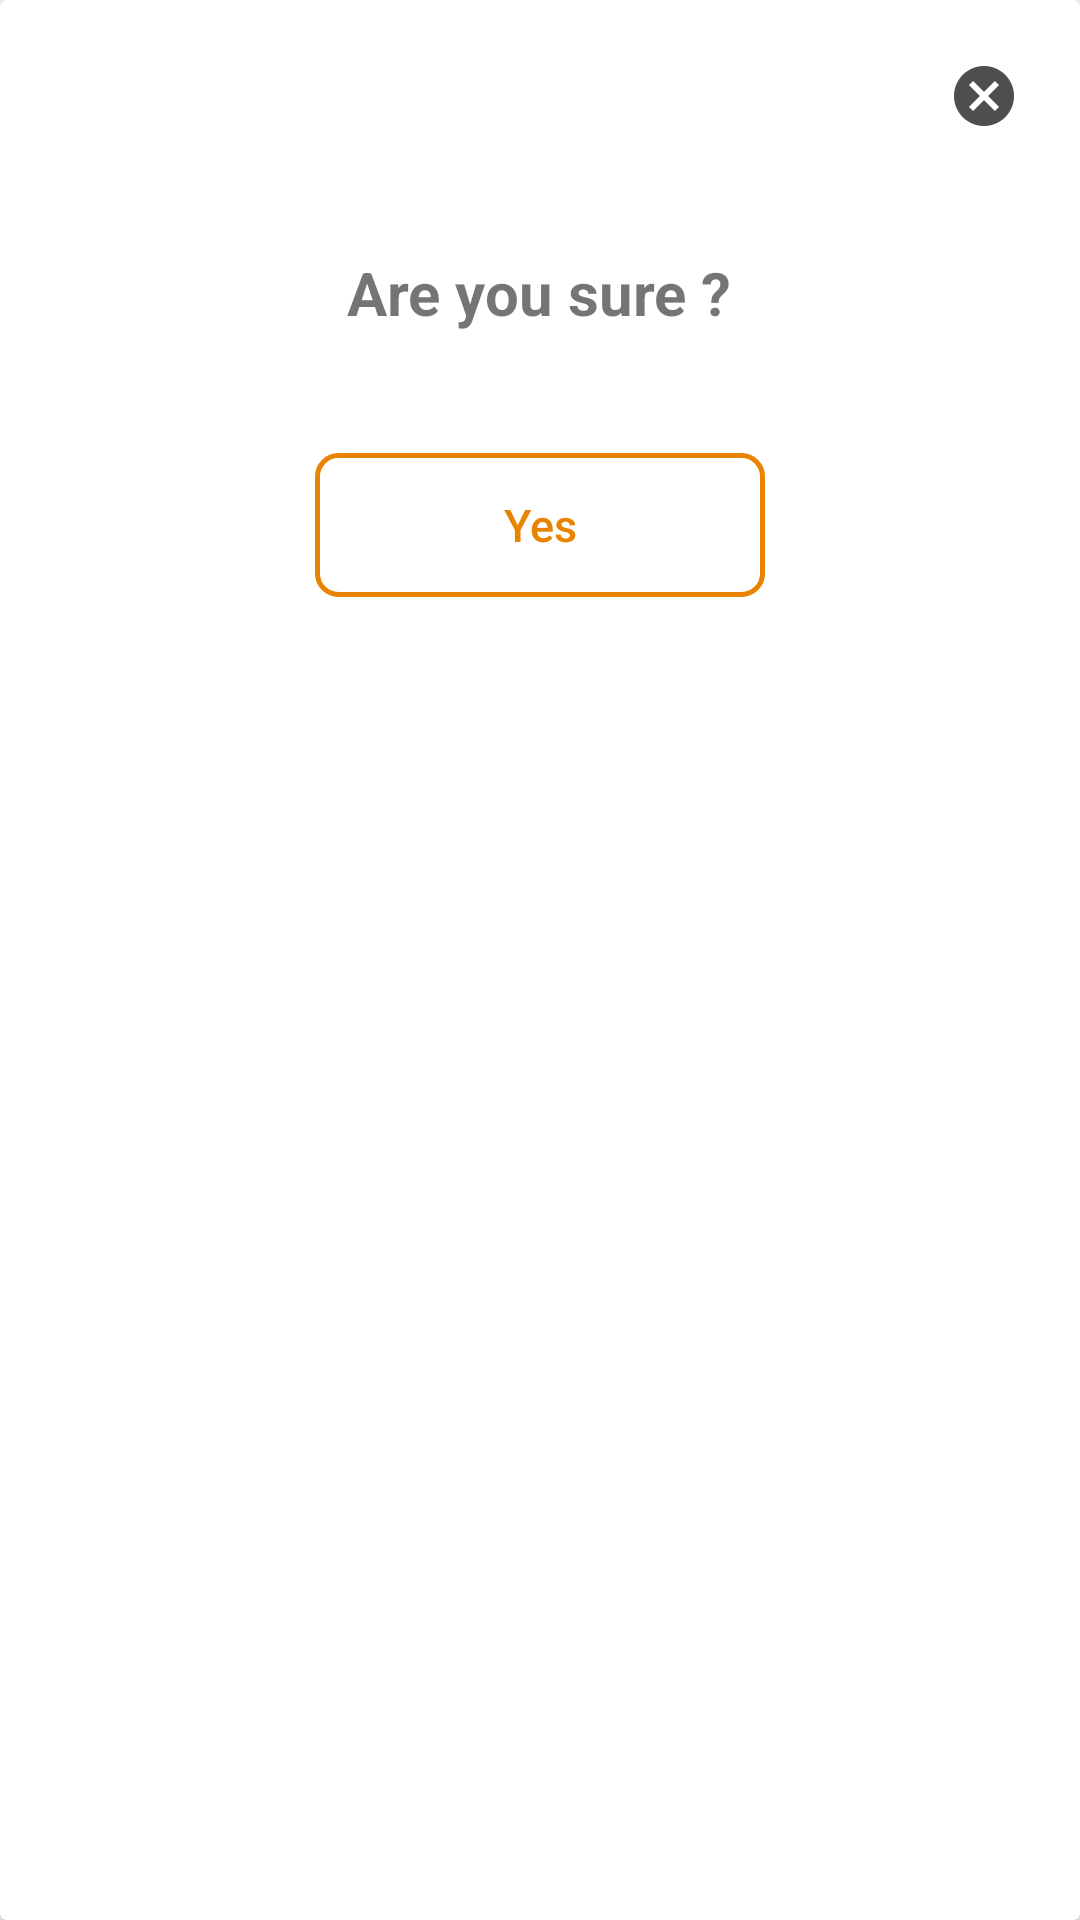

Where to tap for icons on this 1080 x 1920 app screen, as point (x, y):
cancel: point (984, 96)
